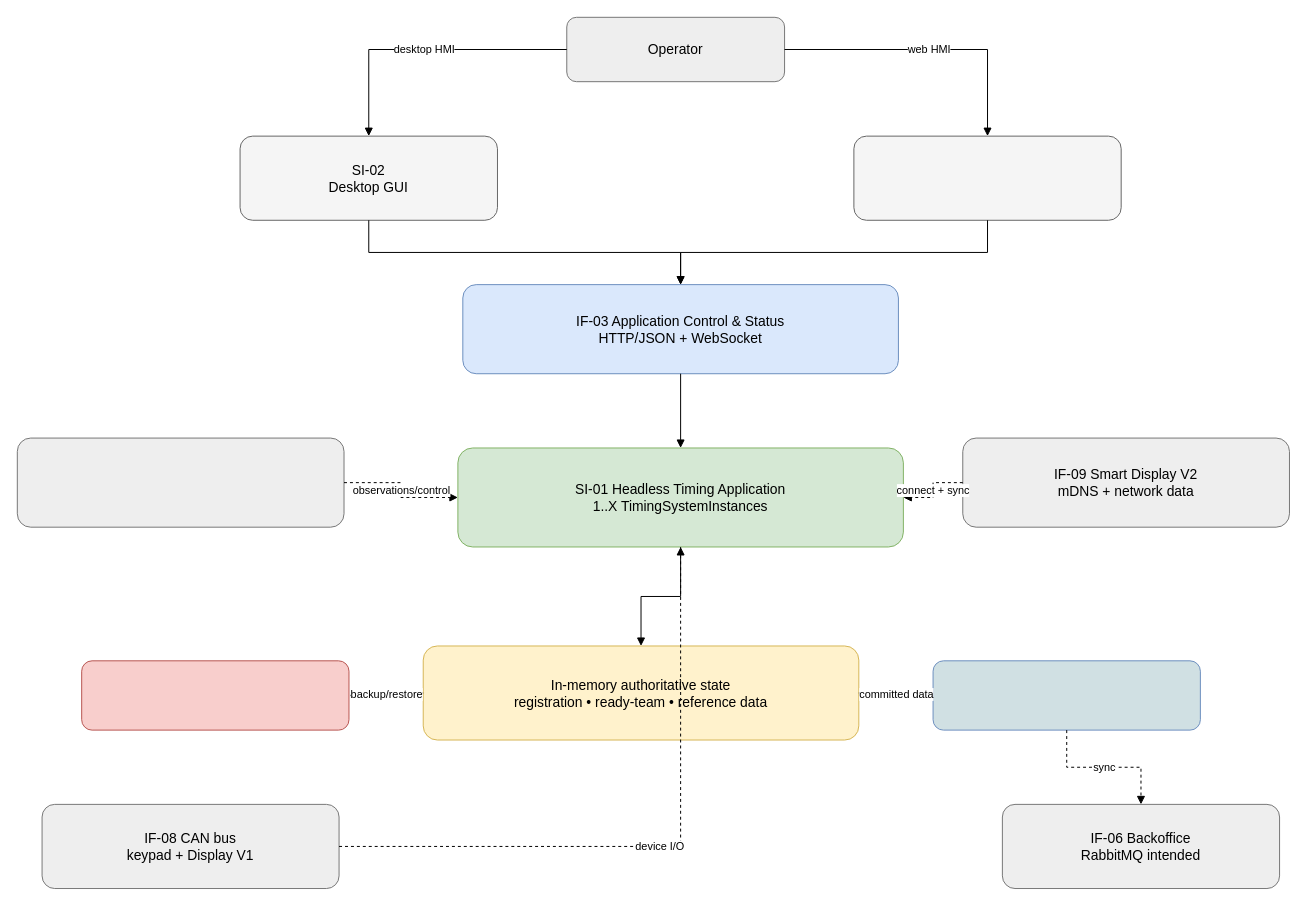
Some shapes in this 1307 by 906 pixel diagram are drawn without their labels. The centre of each missing label's shape, as x and y in pixels:
"Backoffice outbox / sync" goes at pixel 1066 695.
"IF-07 RFID subsystem private production adapter possible" goes at pixel 180 482.
"SI-03 Web / iPad Operator" goes at pixel 987 177.
"Simple file backup / restore" goes at pixel 215 695.
